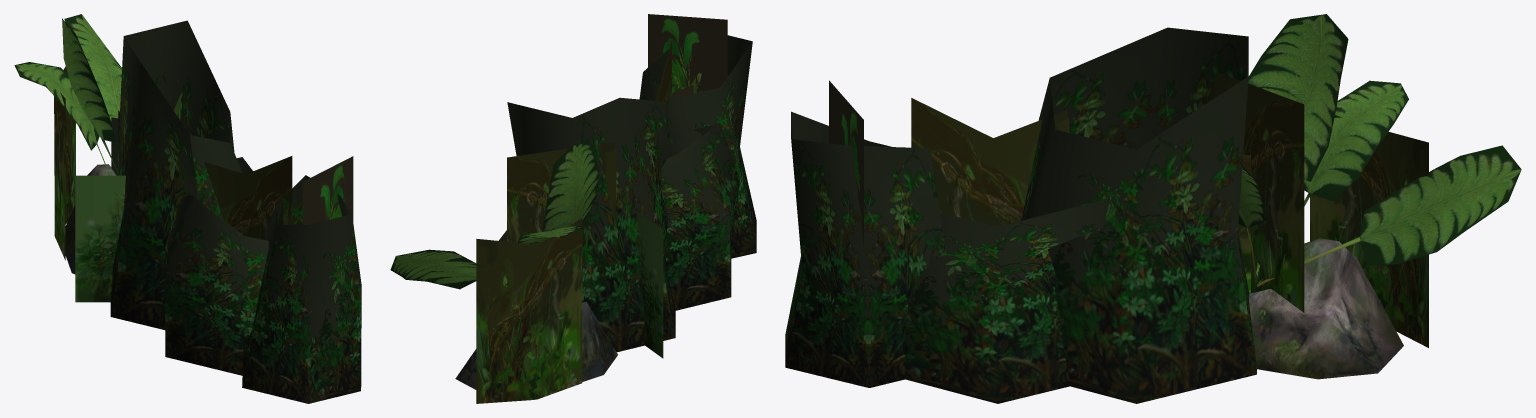
File: bush_d.fbx
3 views of the same model, side by side, from view 1: azimuth 30°, elevation 25°; view 2: azimuth 150°, elevation 25°; view 3: azimuth 270°, elevation 25° (orthographic). The views are drawn at different scales.
Visible parts, largest first — view 1: vine1, vine3, vine2, plant_plane03, plant_plane07, plant_plane08, leaf02, plant_plane00, leaf04, leaf01, rock1, plant_plane09; view 2: vine1, plant_plane08, vine2, vine3, plant_plane00, plant_plane02, leaf02, plant_plane03, leaf04, rock1, plant_plane07, leaf01; view 3: vine1, vine3, vine2, rock1, leaf04, plant_plane02, plant_plane07, plant_plane08, leaf02, leaf01, plant_plane00, leaf03 (+1 smaller).
Part boxes in pixels (bbox=[...]): vine1: bbox=[110, 20, 242, 329]; vine3: bbox=[242, 175, 361, 403]; vine2: bbox=[164, 157, 268, 375]; plant_plane03: bbox=[75, 175, 125, 302]; plant_plane07: bbox=[178, 154, 292, 239]; plant_plane08: bbox=[54, 66, 75, 260]; leaf02: bbox=[62, 18, 116, 169]; plant_plane00: bbox=[302, 156, 353, 224]; leaf04: bbox=[64, 14, 121, 121]; leaf01: bbox=[14, 62, 110, 175]; rock1: bbox=[65, 164, 116, 274]; plant_plane09: bbox=[111, 117, 118, 175]; vine1: bbox=[507, 97, 675, 352]; plant_plane08: bbox=[476, 218, 582, 403]; vine2: bbox=[661, 123, 740, 310]; vine3: bbox=[639, 35, 756, 258]; plant_plane00: bbox=[648, 14, 727, 93]; plant_plane02: bbox=[507, 142, 616, 242]; leaf02: bbox=[542, 140, 599, 231]; plant_plane03: bbox=[637, 211, 663, 358]; leaf04: bbox=[390, 249, 483, 289]; rock1: bbox=[455, 301, 617, 389]; plant_plane07: bbox=[655, 42, 671, 168]; leaf01: bbox=[517, 225, 581, 244]; vine1: bbox=[1021, 27, 1256, 403]; vine3: bbox=[785, 111, 946, 387]; vine2: bbox=[905, 194, 1109, 403]; rock1: bbox=[1249, 238, 1403, 379]; leaf04: bbox=[1257, 145, 1521, 286]; plant_plane02: bbox=[1209, 72, 1304, 312]; plant_plane07: bbox=[911, 98, 1069, 226]; plant_plane08: bbox=[1310, 115, 1428, 347]; leaf02: bbox=[1248, 14, 1348, 277]; leaf01: bbox=[1257, 80, 1408, 283]; plant_plane00: bbox=[829, 80, 863, 246]; leaf03: bbox=[1238, 160, 1265, 282].
Size of the model in its own units: 902 by 1122 by 2490.
Materials: 2 (2 with a texture image).
